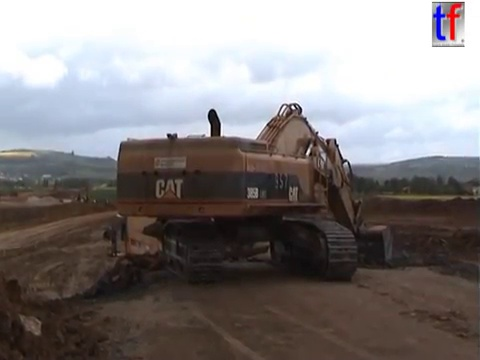excavator: (113, 98, 397, 283), (63, 190, 92, 207)
truck: (101, 208, 275, 287), (8, 188, 20, 199)
